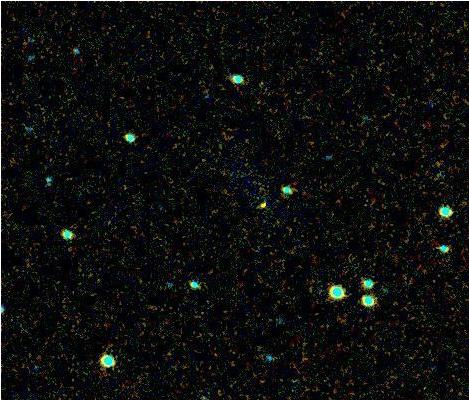star: (244, 189, 274, 219)
